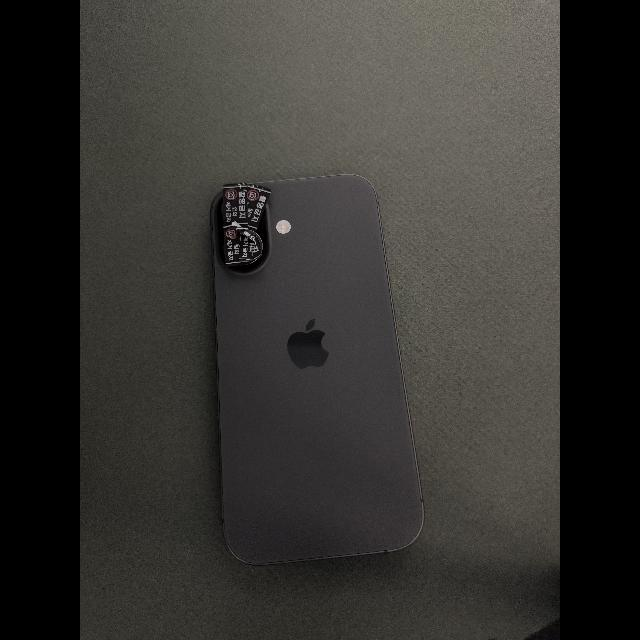phone: (211, 175, 423, 564)
sticker: (224, 220, 252, 266), (246, 183, 272, 232), (231, 222, 263, 261), (223, 182, 248, 229)
